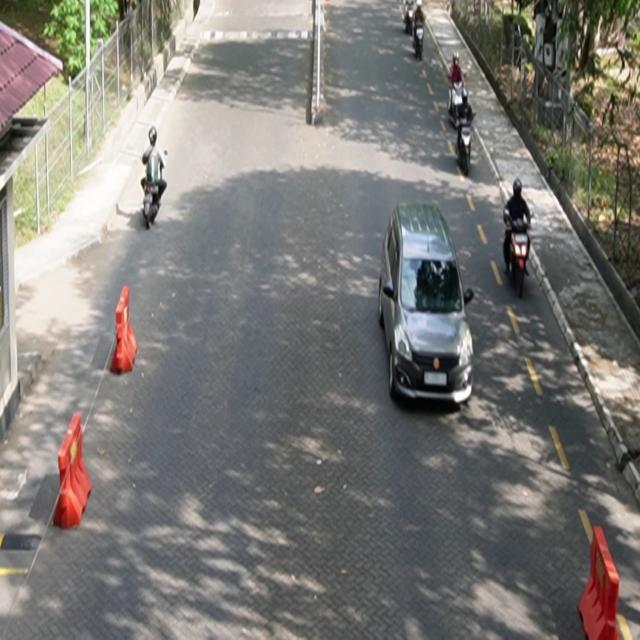car: (379, 202, 475, 408)
